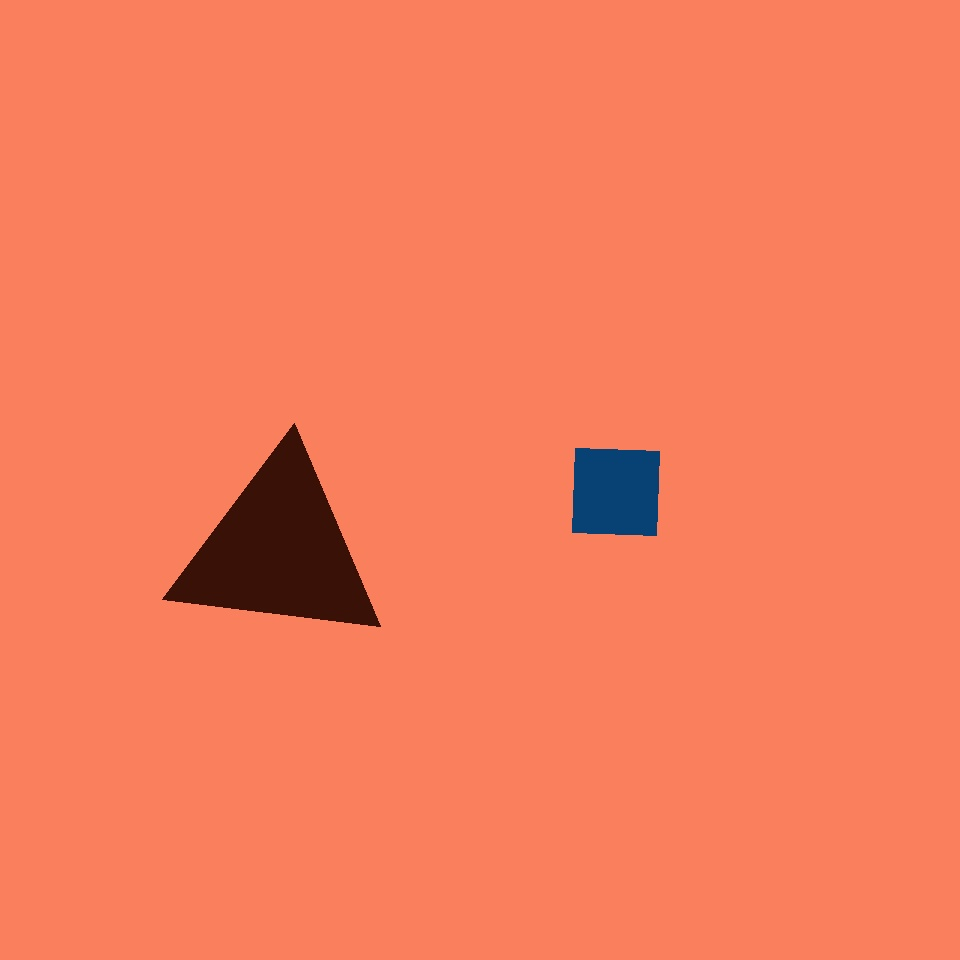circle: (170, 448, 388, 652), (832, 205, 942, 321)
square: (573, 448, 660, 535)
triangle: (146, 177, 522, 553), (132, 246, 394, 507)
